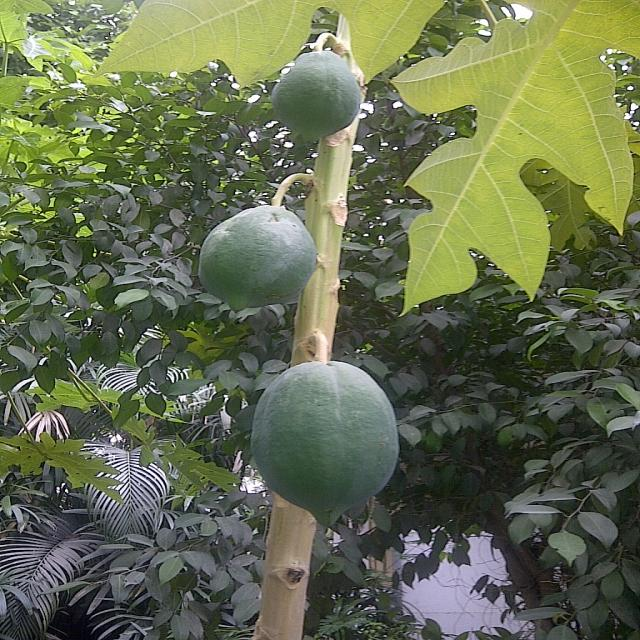Pepaya unrippen: (248, 360, 400, 522), (200, 204, 318, 313), (262, 48, 364, 138)
